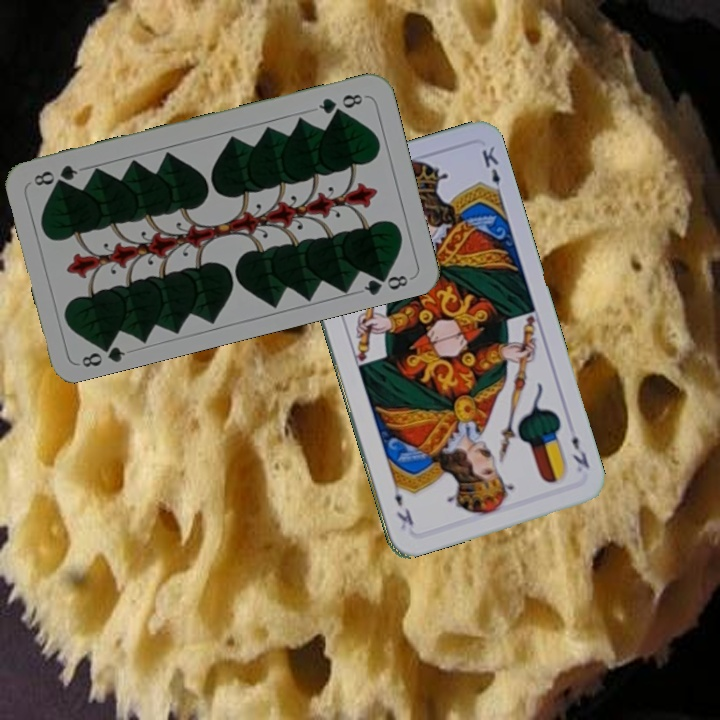EK: (567, 420, 593, 471)
G8: (77, 336, 128, 370), (314, 90, 366, 117)
